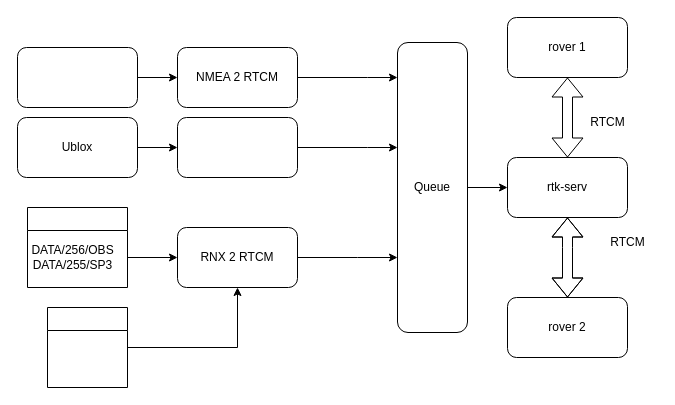
Some shapes in this 675 by 405 pixel diagram are drawn without their labels. The shapes that lost their labels are listed below. From the top down, each one's box as (x1, y1, x2, y2) in pixels, then its label:
(16, 46, 138, 108): NMEA
(176, 116, 298, 178): UBX 2 RTCM
(26, 206, 128, 288): FTP
(46, 306, 128, 388): local RINEX
